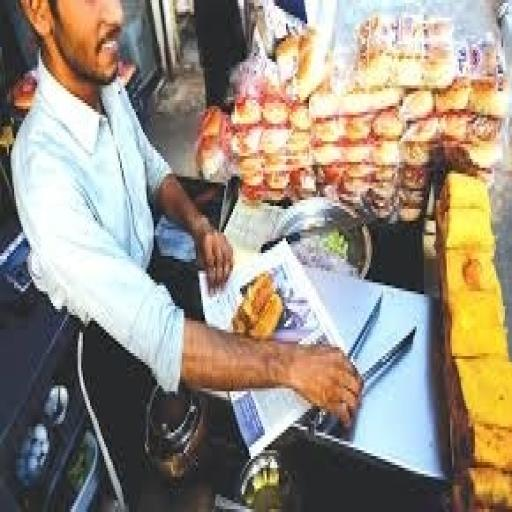eating: (9, 0, 365, 433)
